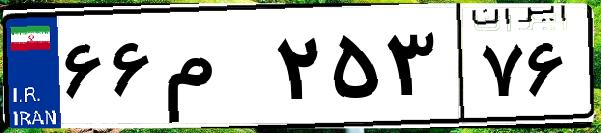2: (270, 28, 330, 110)
3: (385, 28, 445, 110)
5: (330, 28, 385, 110)
6: (57, 26, 110, 100), (525, 38, 570, 115), (110, 28, 158, 98)
7: (475, 38, 525, 113)
م: (158, 20, 270, 120)
